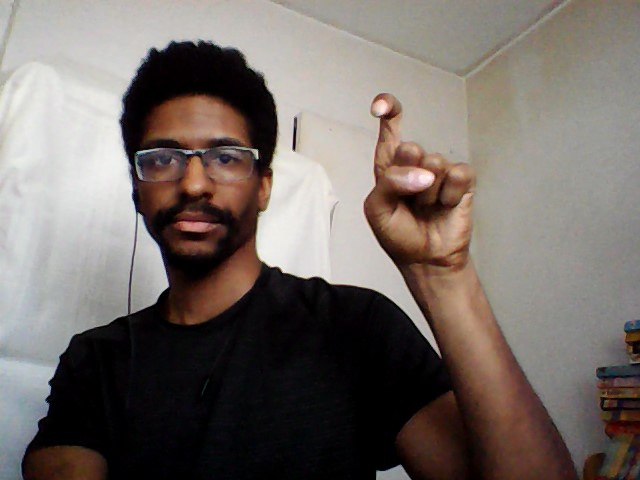x: (359, 84, 481, 274)
